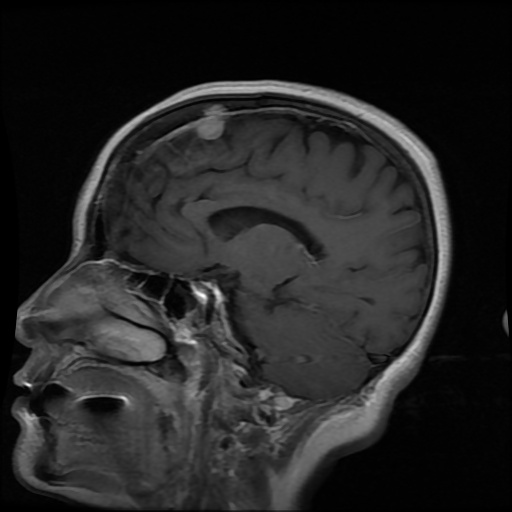meningioma: (195, 105, 225, 138)
